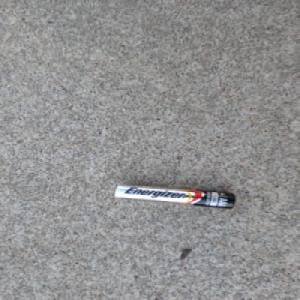Battery: (111, 182, 237, 209)
